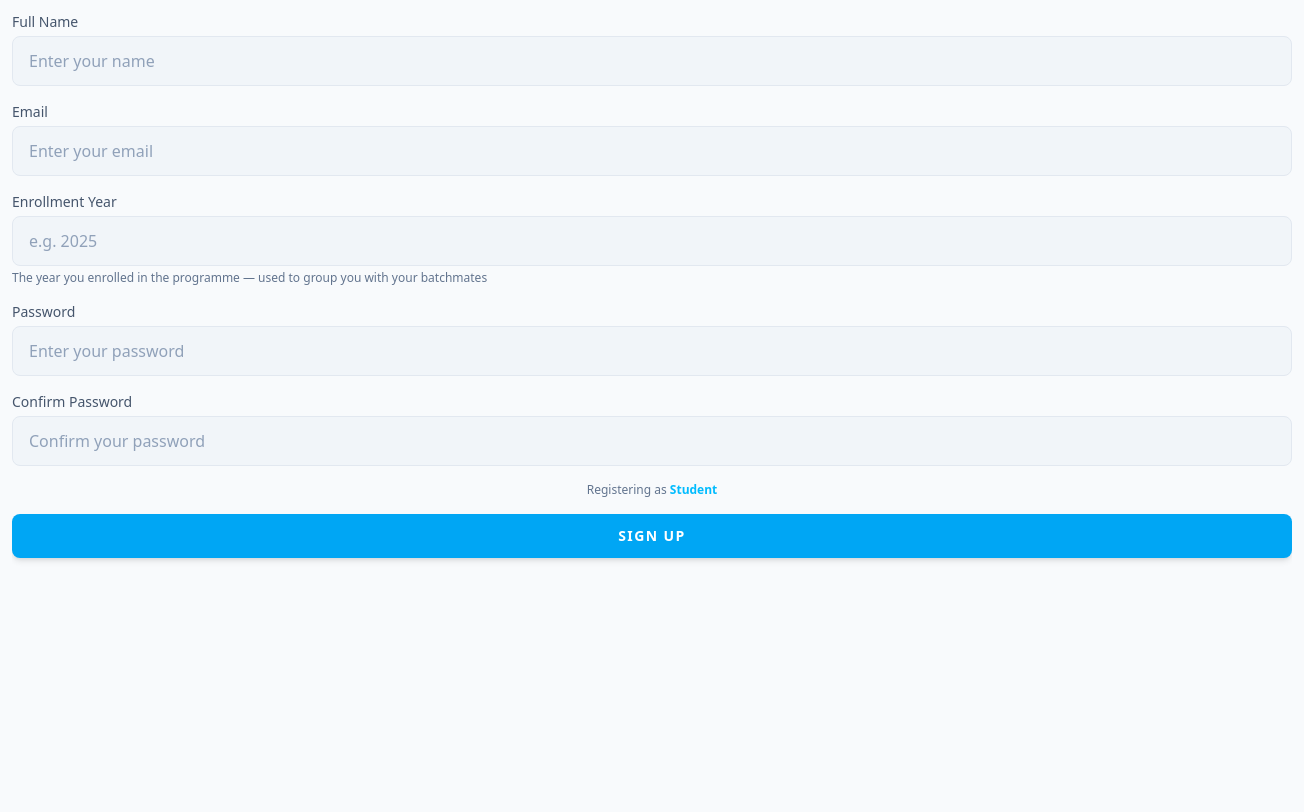
it: Register Component › shows "Name is required" on empty submit
This screenshot has width=1304, height=812.
Click the button "Sign Up" at (652, 536), box x1=12 y1=514 x2=1292 y2=558
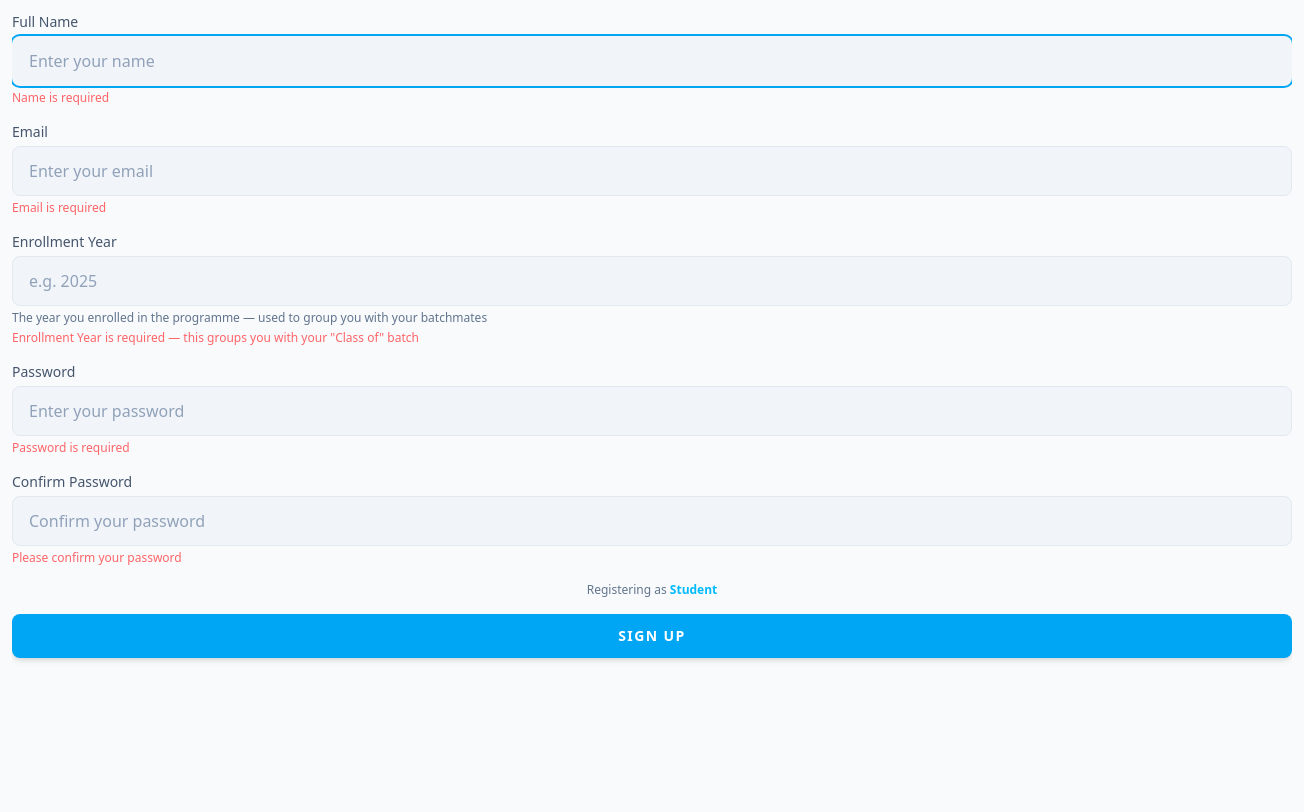
Result: the text "Name is required" is shown at x1=12 y1=89 x2=109 y2=106
